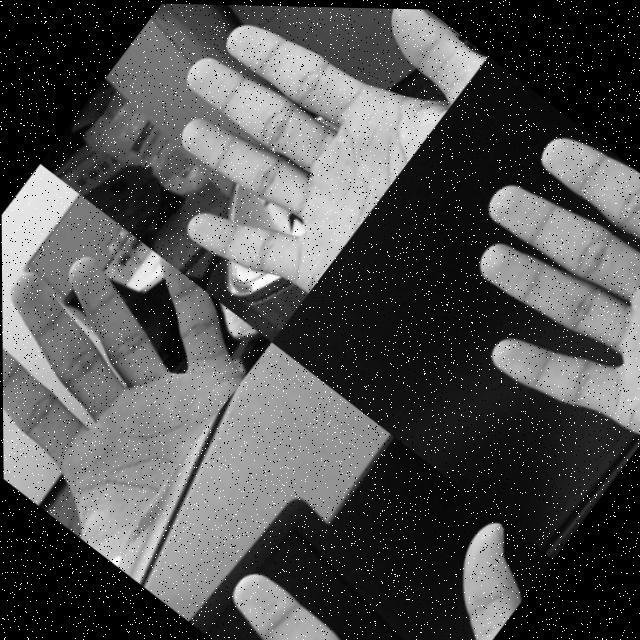no-gloves: (101, 1, 489, 322), (1, 191, 271, 561), (178, 396, 552, 640), (403, 101, 640, 466)
